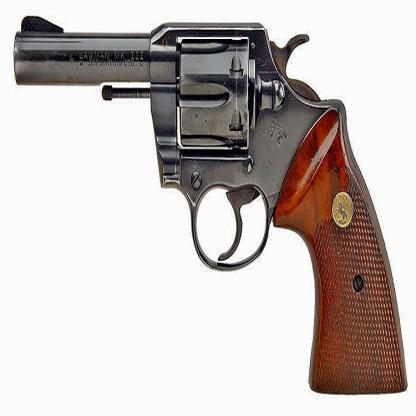gun: (6, 8, 409, 407)
